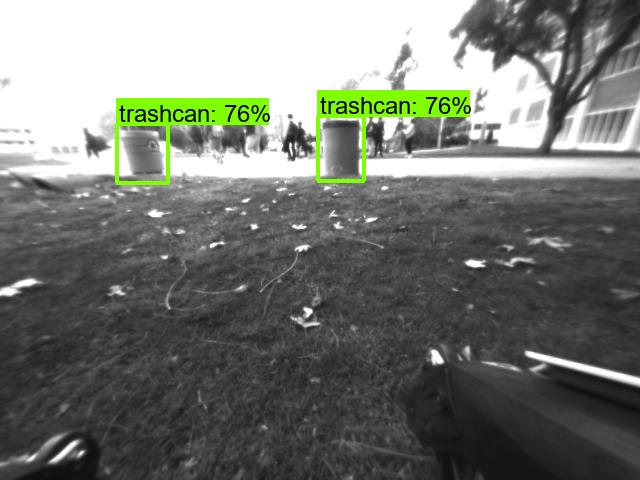trashcan: (318, 118, 364, 176), (126, 129, 172, 186)
